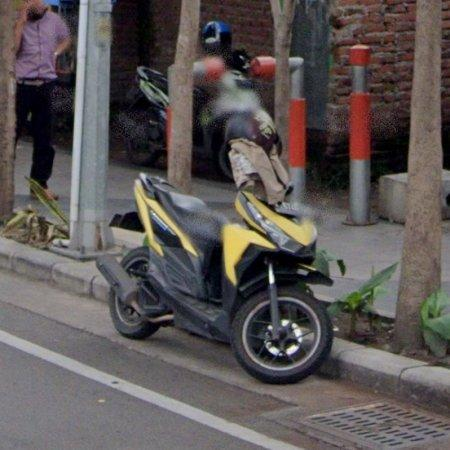motorcycles: (97, 174, 334, 384)
